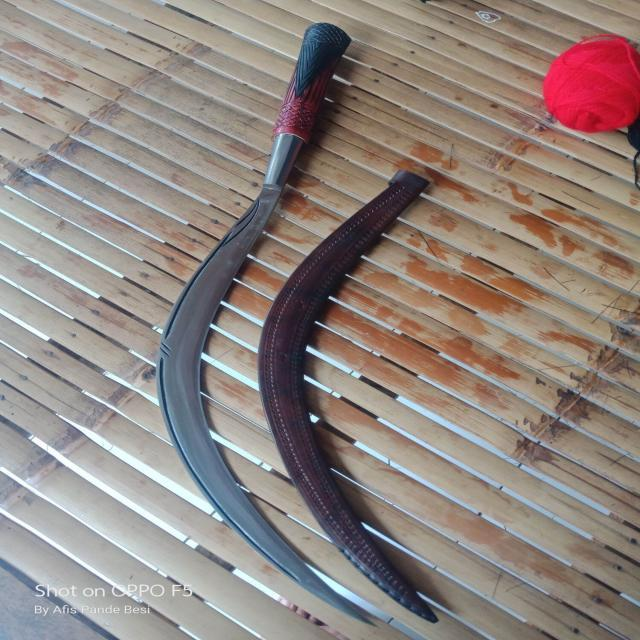machete: (154, 13, 376, 637)
